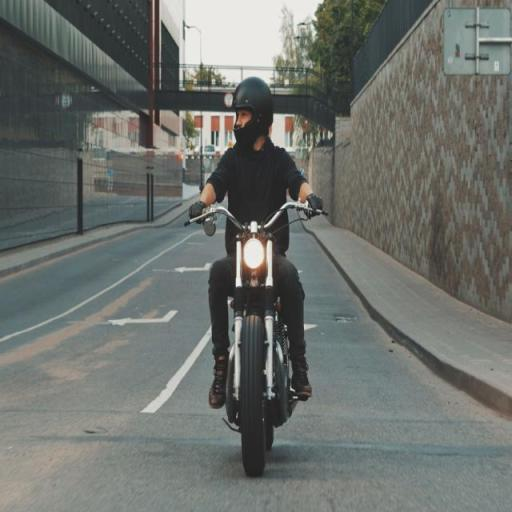Helmet: (233, 77, 273, 147)
Motor: (185, 202, 326, 475)
